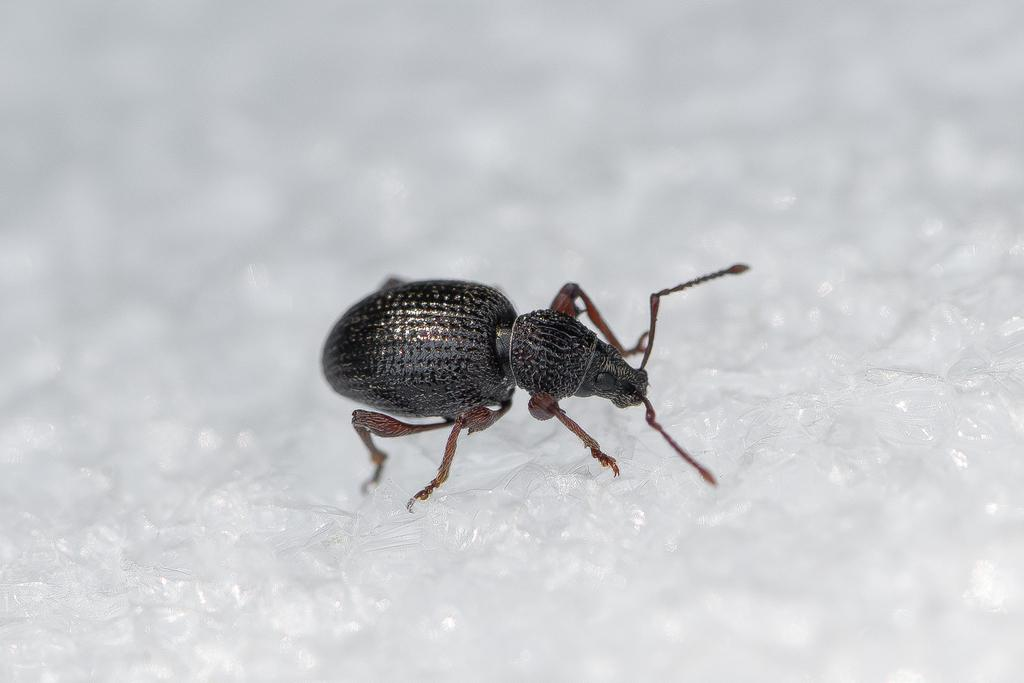weevils: (257, 200, 805, 560)
